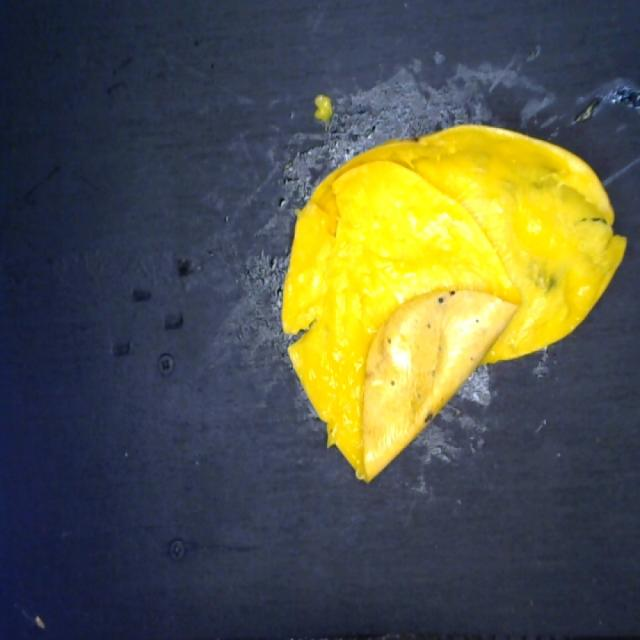biodegradable: (278, 124, 636, 482)
